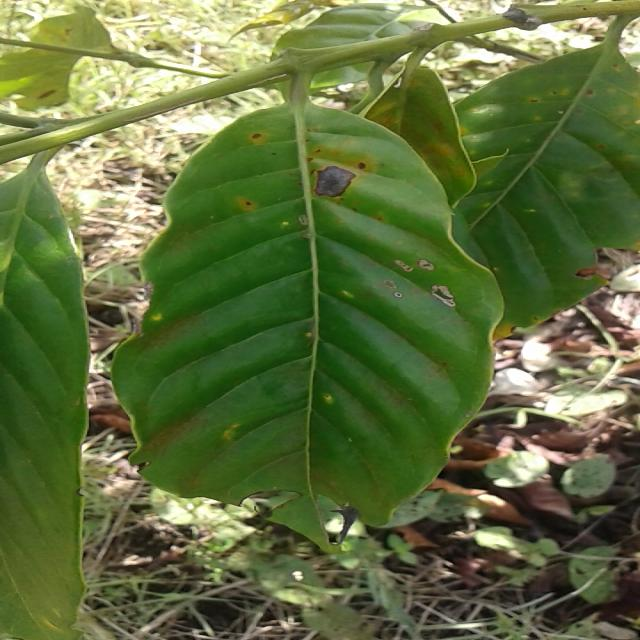Enfermedad-Roya: (110, 98, 506, 528)
